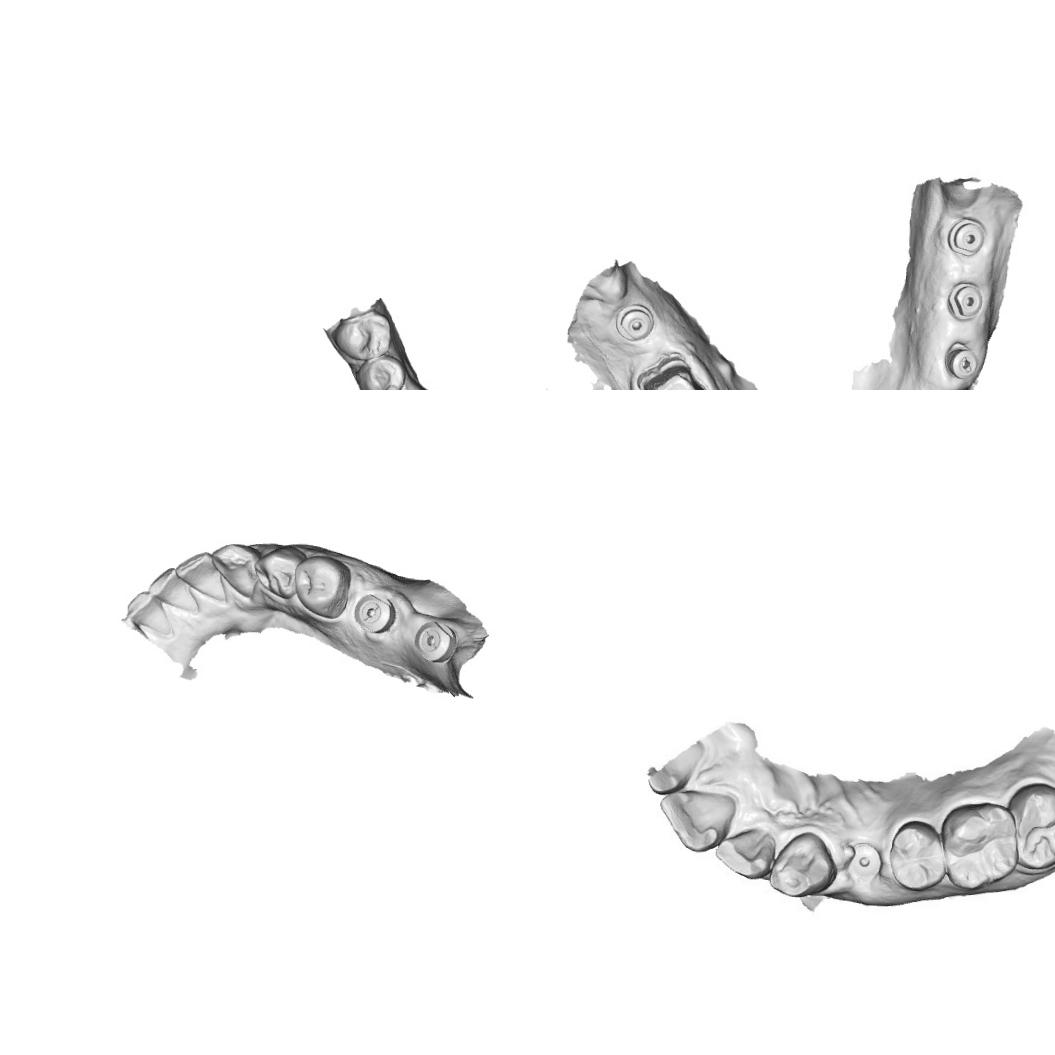canine: (767, 834, 839, 899), (209, 540, 265, 606)
crown: (634, 353, 713, 390)
implant: (944, 216, 988, 258), (944, 280, 985, 324), (846, 836, 882, 885), (615, 300, 656, 342)
implant_minus: (349, 591, 396, 638), (412, 620, 460, 662), (943, 341, 980, 381)
incisor: (662, 784, 740, 858), (149, 566, 205, 619), (720, 828, 778, 878), (122, 589, 172, 635), (177, 550, 226, 593)
molar: (943, 804, 1021, 890), (1011, 783, 1055, 863)
premolar: (292, 554, 353, 620), (888, 825, 948, 890), (330, 308, 394, 362), (256, 548, 302, 596), (354, 352, 408, 390)
